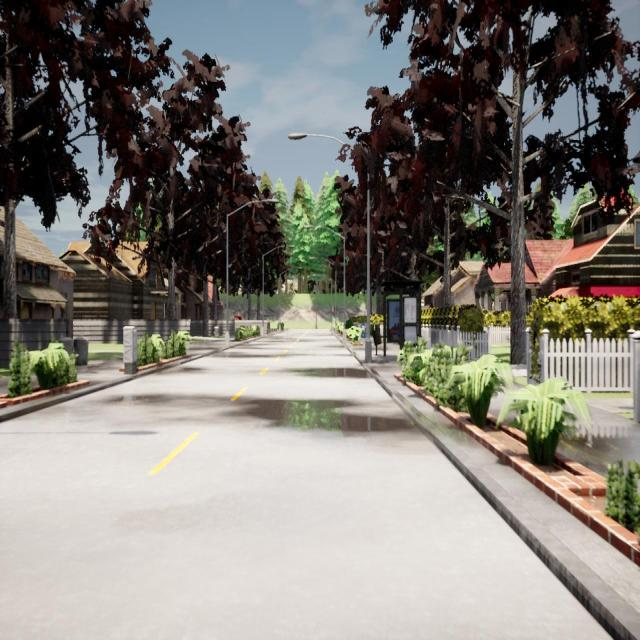traffic_light: (332, 310, 334, 316)
